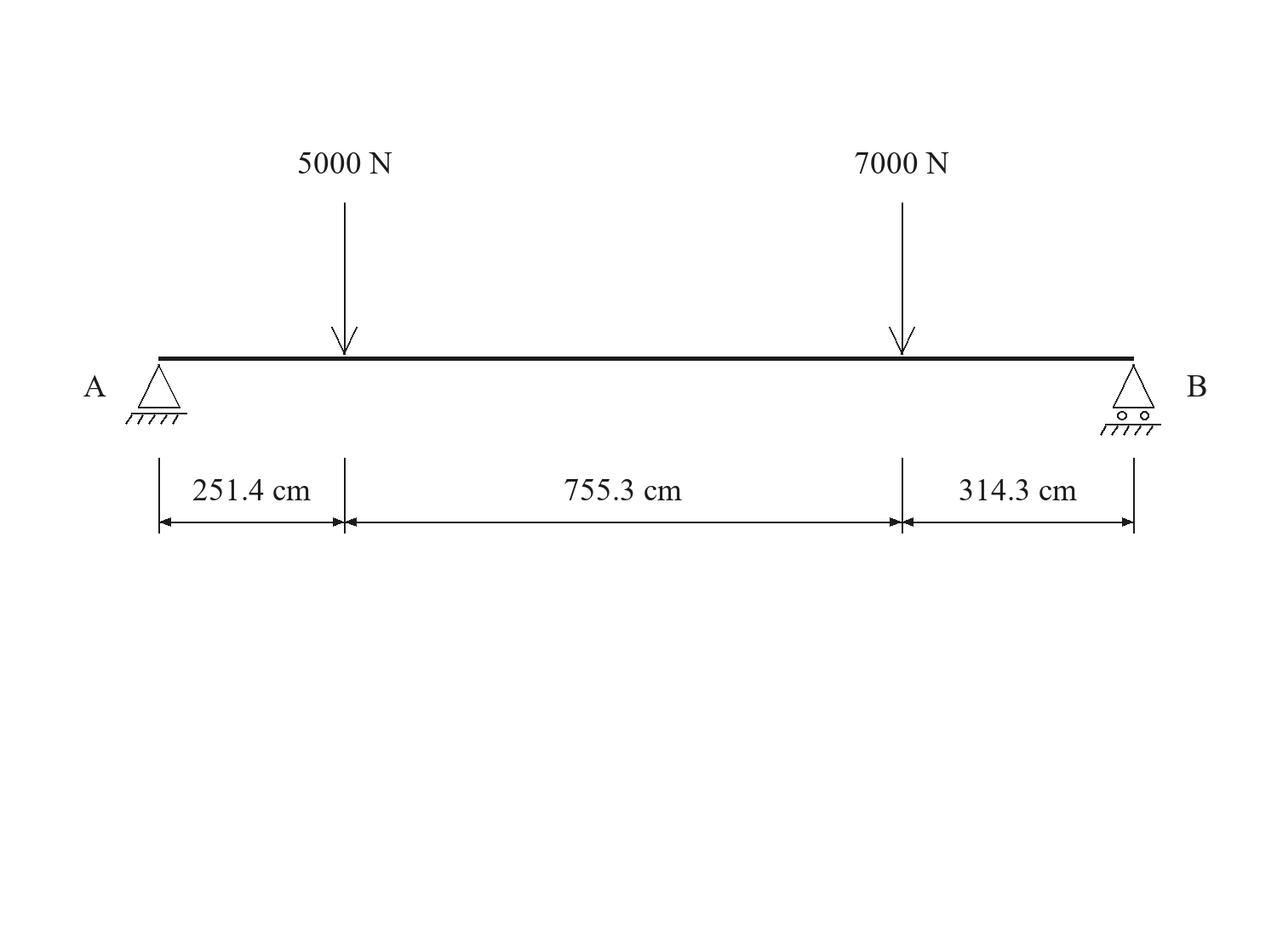pin_support: (125, 364, 187, 425)
point_load: (331, 203, 358, 355), (889, 203, 915, 355)
roller_support: (1100, 364, 1161, 436)
